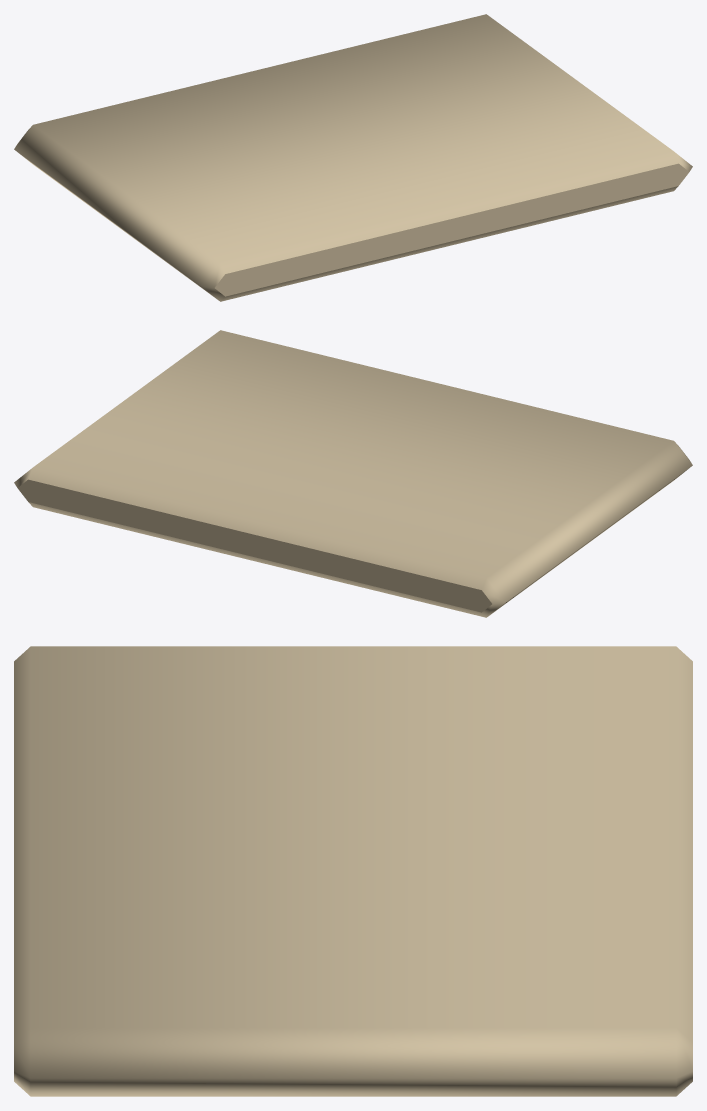
The model's file is t200_cabinet.obj.
3 renders of one model, top to bottom at view 1: azimuth 30°, elevation 25°; view 2: azimuth 150°, elevation 25°; view 3: azimuth 270°, elevation 25°, orthographic. The views are drawn at different scales.
Parts seen in each view (by area): view 1: t200_cabinet; view 2: t200_cabinet; view 3: t200_cabinet.
Part boxes in pixels (x1=…): t200_cabinet: x1=14, y1=14, x2=692, y2=301; t200_cabinet: x1=14, y1=330, x2=692, y2=617; t200_cabinet: x1=14, y1=646, x2=692, y2=1096.
Bounding box in the file's own units: 7.1 × 0.55 × 4.93.
